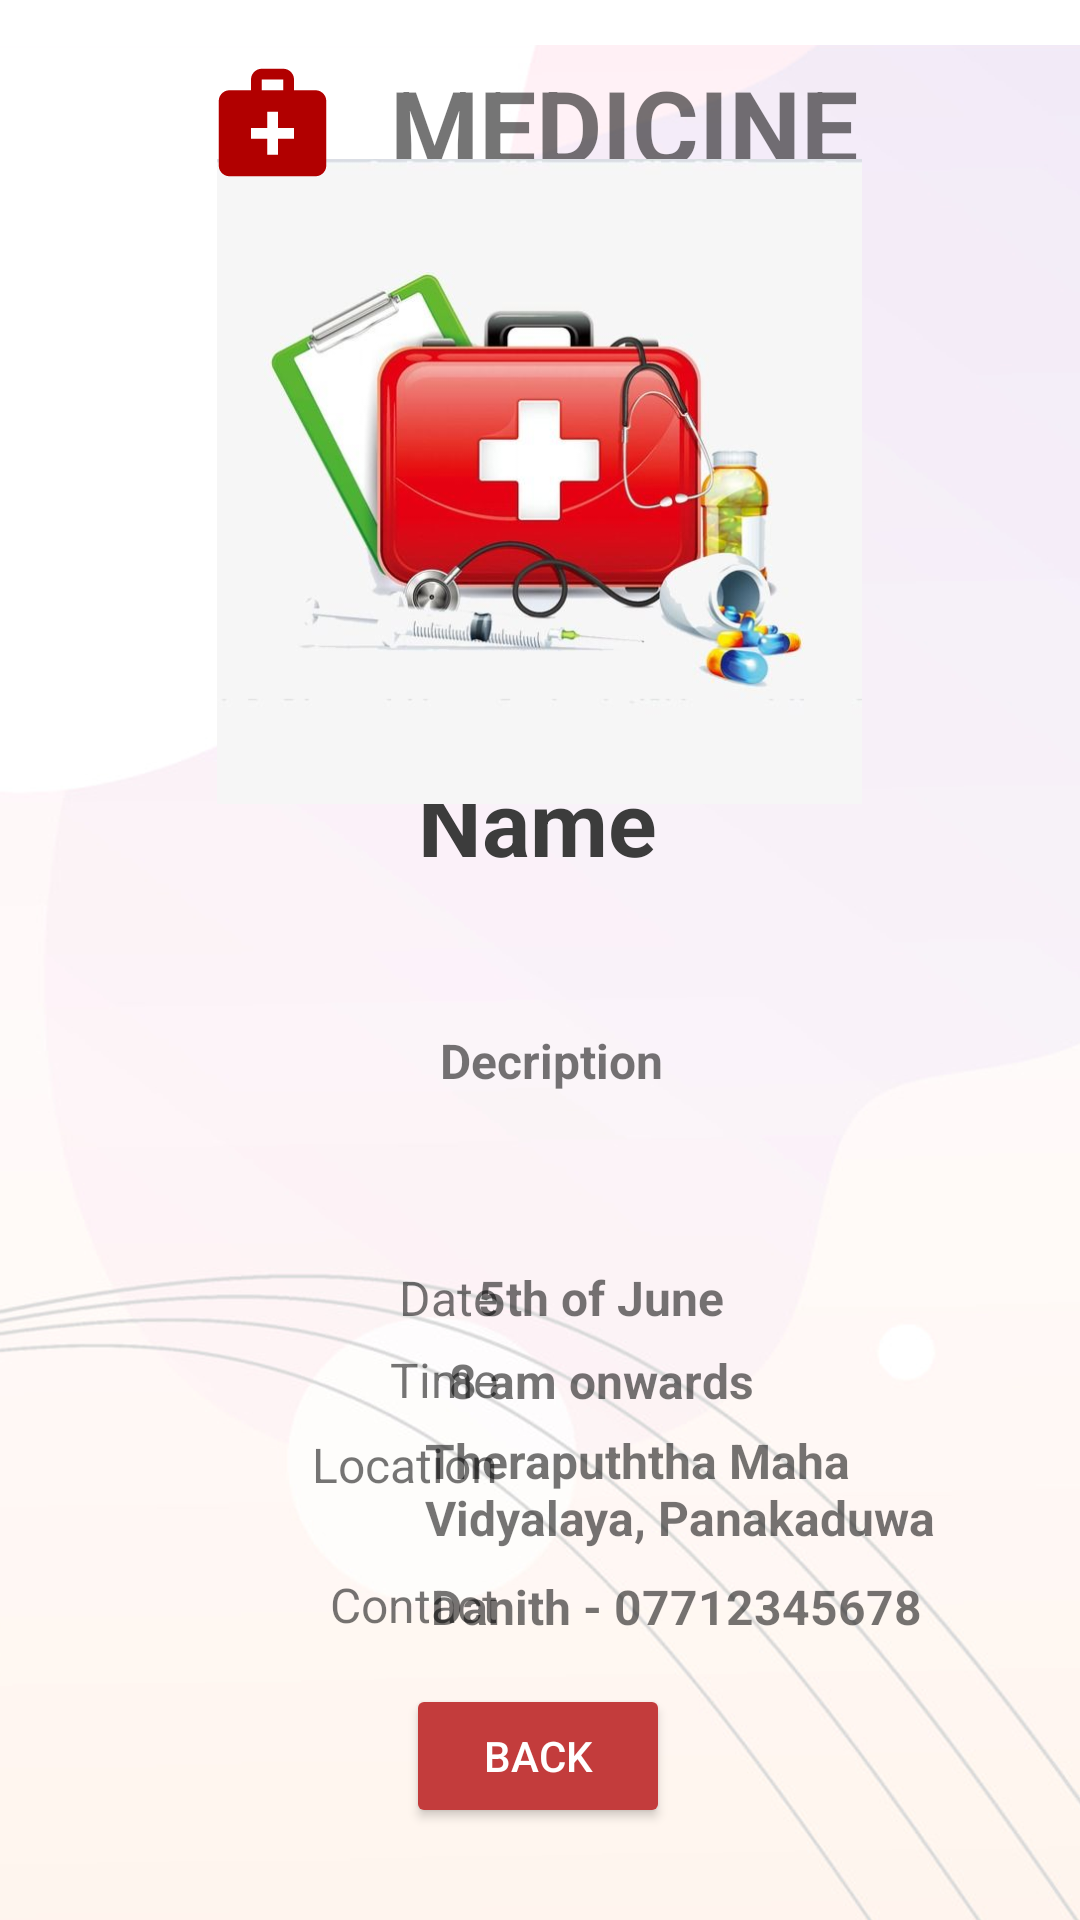

Screen size 1080px x 1920px. Icon name, then its box in pixels as (x1, y1, x2, y2):
medical services: (217, 68, 341, 177)
